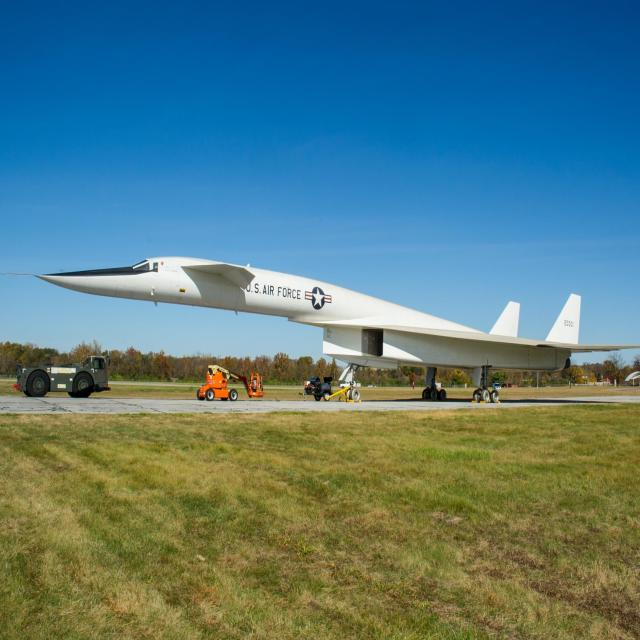MIL_Plane: (0, 256, 640, 403)
